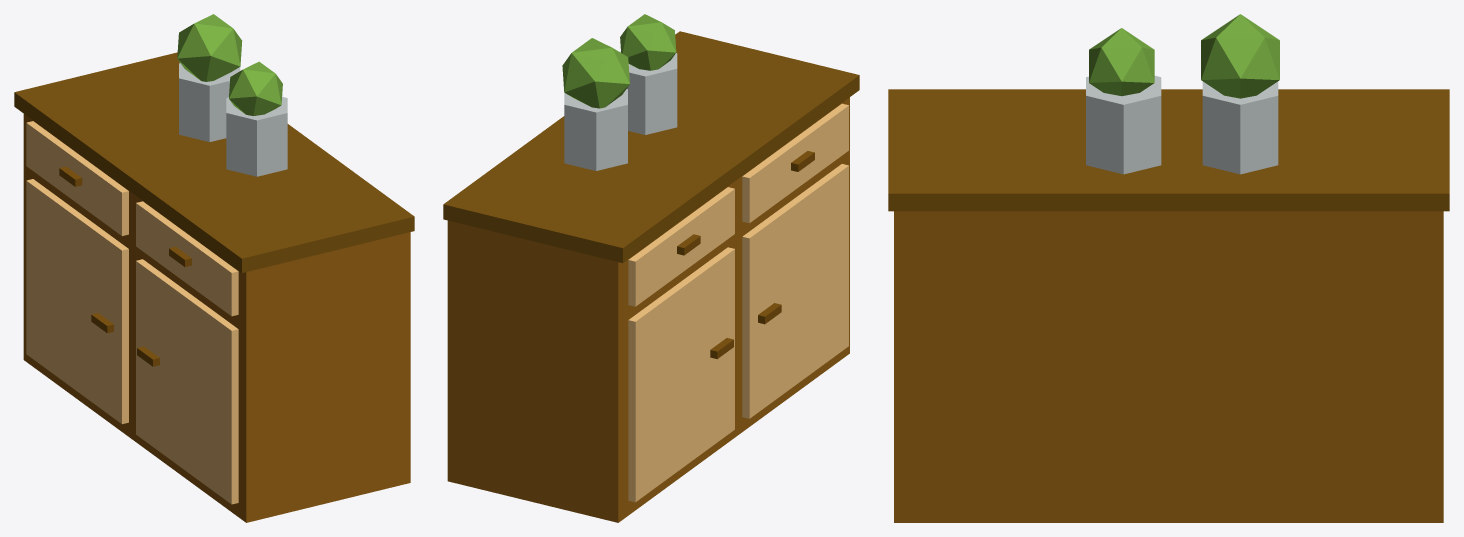
The model's file is tutailieu.001.fbx.
The picture shows the model from 3 angles, left to right: view 1: azimuth 30°, elevation 25°; view 2: azimuth 150°, elevation 25°; view 3: azimuth 270°, elevation 25°; orthographic projection. The views are drawn at different scales.
Parts seen in each view (by area): view 1: tutailieu.001; view 2: tutailieu.001; view 3: tutailieu.001.
Boxes of the visible parts, box(x1,y1,x2,y2) form: tutailieu.001: box(14, 14, 414, 522); tutailieu.001: box(443, 14, 859, 522); tutailieu.001: box(888, 14, 1449, 522).
Bounding box in the file's own units: 127 × 253 × 277.
